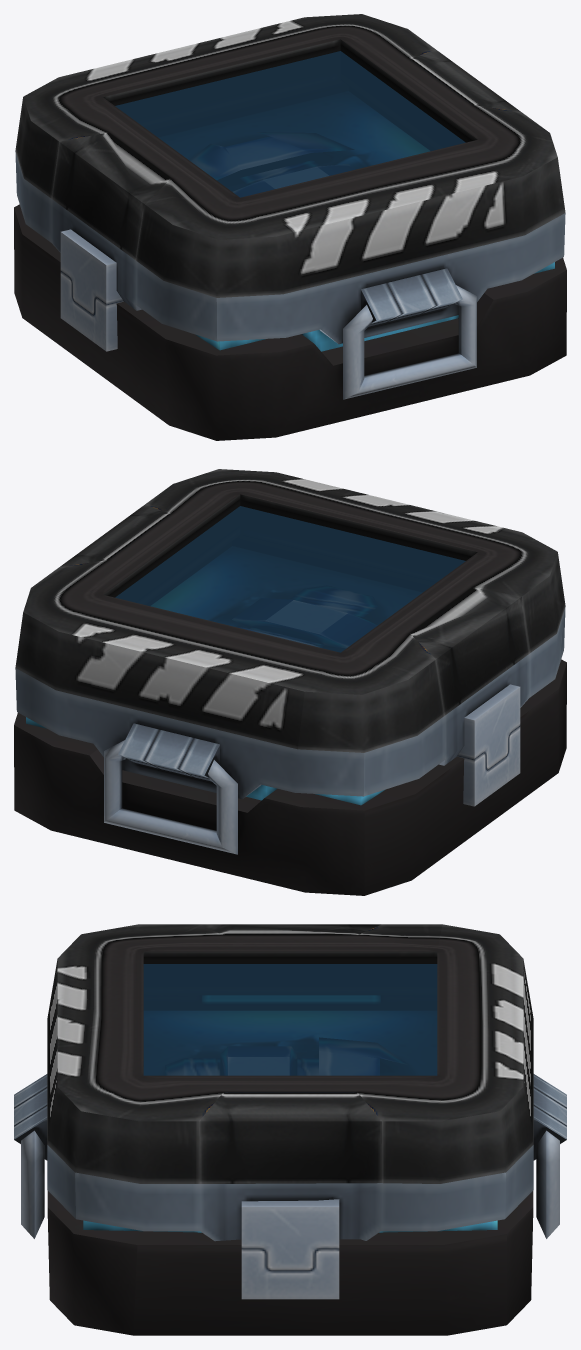
The model's file is obj_consumable_component_lod1.fbx.
3 renders of one model, top to bottom at view 1: azimuth 30°, elevation 25°; view 2: azimuth 150°, elevation 25°; view 3: azimuth 270°, elevation 25°, orthographic. The views are drawn at different scales.
Visible parts, largest first — view 1: obj_consumable_component_lod1; view 2: obj_consumable_component_lod1; view 3: obj_consumable_component_lod1.
Boxes of the visible parts, x1,y1,x2,y2 form: obj_consumable_component_lod1: [14, 14, 566, 440]; obj_consumable_component_lod1: [14, 469, 566, 895]; obj_consumable_component_lod1: [14, 924, 566, 1335].
Size of the model in its own units: 2.1 by 1 by 2.28.
Materials: 2 (1 with a texture image).
